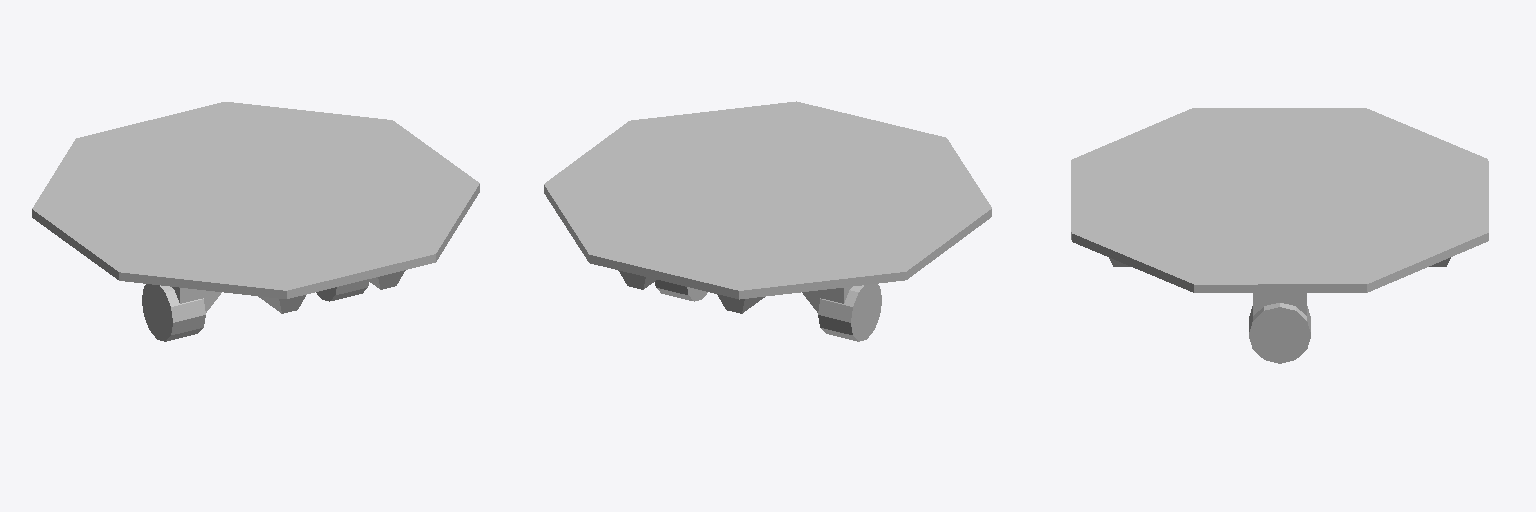
The model's file is Radar.obj.
3 views of the same model, side by side, from view 1: azimuth 30°, elevation 25°; view 2: azimuth 150°, elevation 25°; view 3: azimuth 270°, elevation 25° (orthographic).
Parts seen in each view (by area): view 1: radarhead.001; view 2: radarhead.001; view 3: radarhead.001.
Part boxes in pixels (x1,y1,x2,y2): radarhead.001: (32, 102, 479, 341); radarhead.001: (544, 101, 991, 341); radarhead.001: (1071, 108, 1488, 363).
Size of the model in its own units: 0.772 by 0.2435 by 0.772.